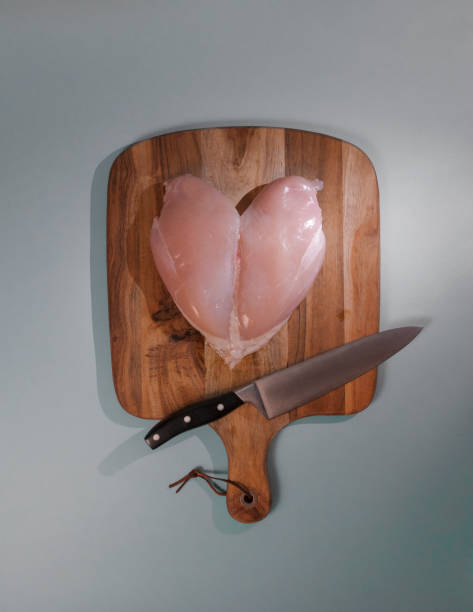knife: (139, 323, 426, 452)
